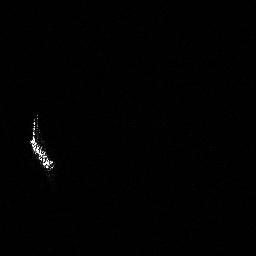ship: (25, 111, 59, 176)
